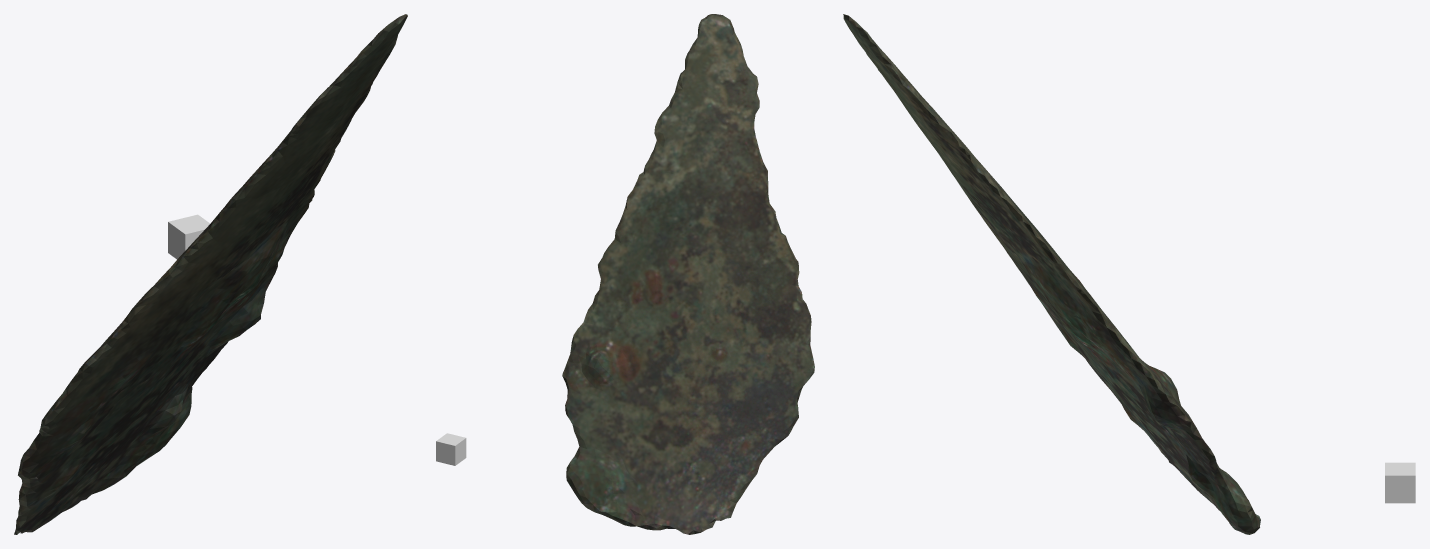
The model's file is Pugnaletto.glb.
3 renders of one model, left to right at view 1: azimuth 30°, elevation 25°; view 2: azimuth 150°, elevation 25°; view 3: azimuth 270°, elevation 25°, orthographic. The views are drawn at different scales.
Parts seen in each view (by area): view 1: Pugnaletto, Cube; view 2: Pugnaletto, Cube; view 3: Pugnaletto, Cube.
Part boxes in pixels (x1=…): Pugnaletto: x1=14, y1=14, x2=407, y2=534; Cube: x1=168, y1=214, x2=210, y2=259; Pugnaletto: x1=562, y1=14, x2=814, y2=534; Cube: x1=436, y1=433, x2=466, y2=465; Pugnaletto: x1=843, y1=14, x2=1260, y2=534; Cube: x1=1385, y1=462, x2=1415, y2=503.
Size of the model in its own units: 24.85 by 39.82 by 37.32.
2 materials, 1 textured.
